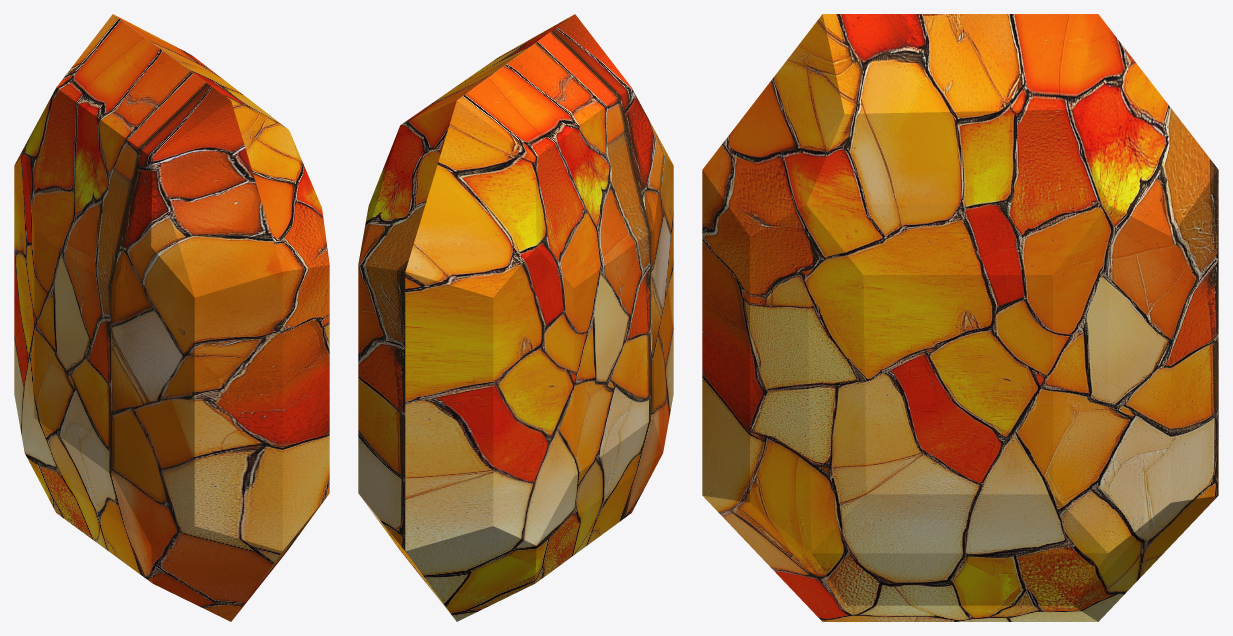
The model's file is gemstone8Orange.glb.
The picture shows the model from 3 angles, left to right: view 1: azimuth 30°, elevation 25°; view 2: azimuth 150°, elevation 25°; view 3: azimuth 270°, elevation 25°; orthographic projection. The views are drawn at different scales.
Parts seen in each view (by area): view 1: gemstone7; view 2: gemstone7; view 3: gemstone7.
Boxes of the visible parts, x1,y1,x2,y2 form: gemstone7: (14, 14, 329, 621); gemstone7: (358, 14, 673, 621); gemstone7: (702, 14, 1218, 621).
Bounding box in the file's own units: 0.5 × 1.3 × 1.
Materials: 1 (1 with a texture image).
